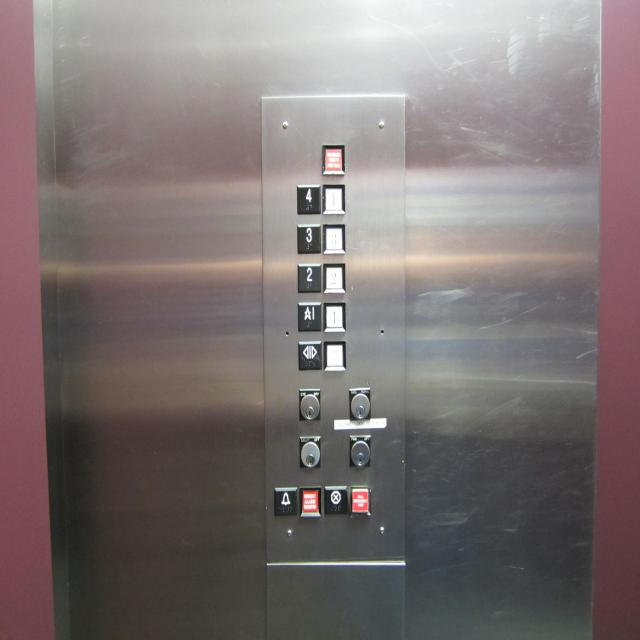1: (322, 184, 345, 215), (324, 301, 346, 332)
2: (322, 262, 346, 294), (297, 262, 321, 292)
3: (296, 224, 322, 254), (322, 224, 344, 254)
4: (296, 184, 322, 215)
alarm: (273, 486, 299, 517)
empty: (323, 340, 347, 372)
keyhole: (348, 388, 371, 421), (299, 436, 321, 469), (349, 434, 370, 468), (299, 388, 320, 420)
open: (297, 340, 322, 371)
s1: (296, 300, 322, 334)
stop: (322, 484, 348, 518)
text: (321, 144, 346, 176)
text_alarm bell: (299, 486, 321, 517)
text_stop: (350, 485, 371, 517)
